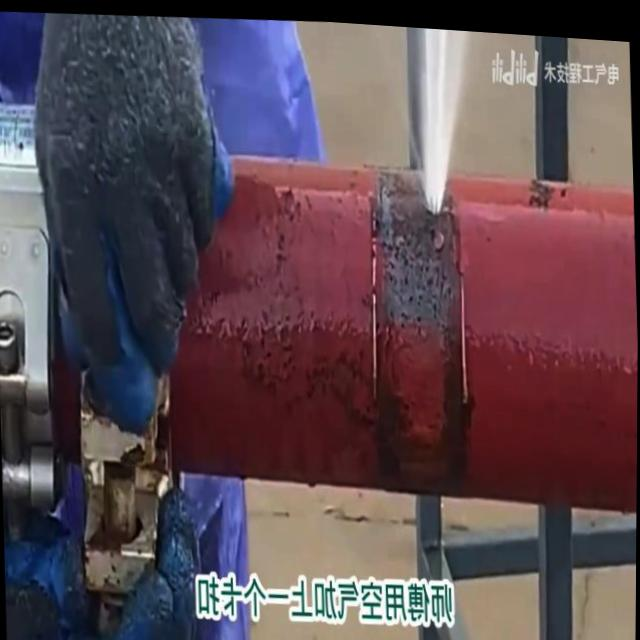leak: (389, 26, 479, 214)
